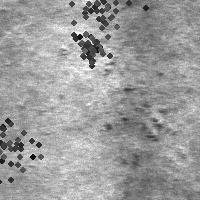rolled-in_scale: (54, 0, 148, 52), (101, 81, 181, 141), (0, 101, 51, 183), (66, 24, 112, 70), (114, 148, 144, 200)
